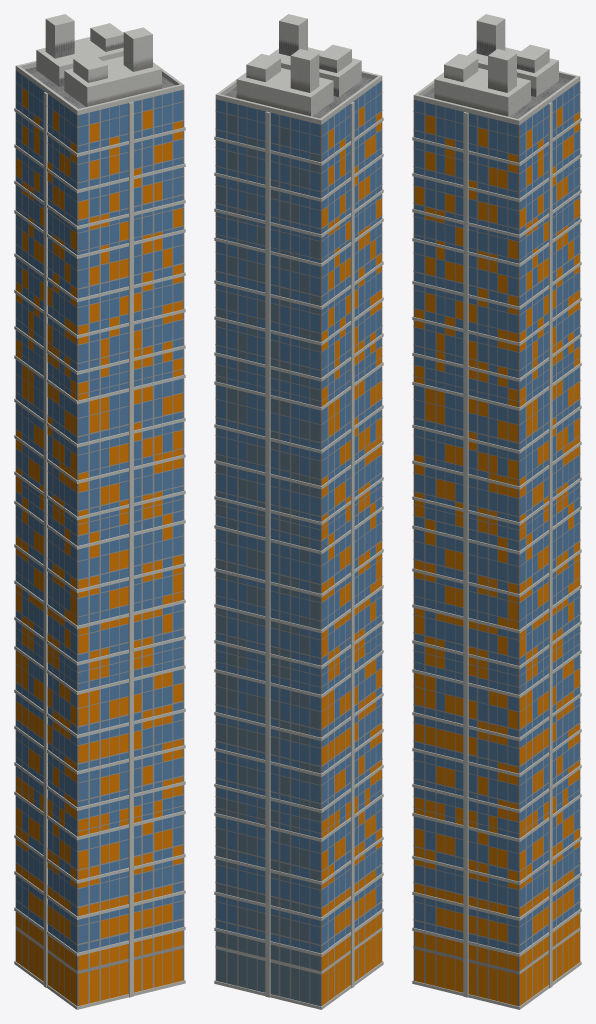
The model's file is House_1.fbx.
3 renders of one model, left to right at view 1: azimuth 30°, elevation 25°; view 2: azimuth 150°, elevation 25°; view 3: azimuth 330°, elevation 25°, orthographic.
Visible parts, largest first — view 1: House_1, Glass, GlassLighted; view 2: House_1, Glass, GlassLighted; view 3: House_1, Glass, GlassLighted.
Part boxes in pixels (x1,y1,x2,y2): House_1: (14,14,185,1009); Glass: (16,71,182,1005); GlassLighted: (16,88,182,1005); House_1: (214,14,383,1009); Glass: (217,81,381,1005); GlassLighted: (217,106,381,1005); House_1: (412,14,581,1009); Glass: (415,82,579,952); GlassLighted: (415,107,579,1005).
Bounding box in the file's own units: 51.46 × 424 × 51.46.
